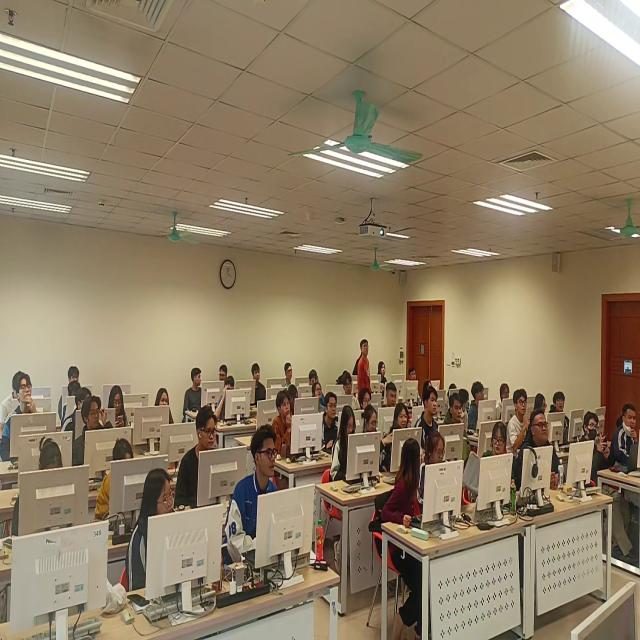raise_head: (226, 423, 281, 570), (126, 465, 179, 603), (3, 371, 40, 465), (520, 409, 565, 485), (611, 402, 639, 470), (386, 402, 410, 472), (415, 385, 440, 446), (274, 390, 296, 459), (509, 386, 529, 453), (320, 391, 340, 454), (552, 390, 571, 442), (154, 387, 177, 426), (251, 362, 267, 405), (445, 392, 464, 428), (408, 364, 424, 405), (312, 378, 324, 412), (359, 385, 373, 413), (387, 381, 399, 410), (342, 371, 354, 397), (284, 361, 295, 388), (378, 359, 388, 385), (68, 365, 81, 385), (424, 379, 433, 391)
stand: (357, 338, 373, 390)
using_computer: (176, 407, 219, 514), (95, 437, 135, 521), (421, 431, 448, 515), (332, 404, 357, 487), (362, 403, 392, 472), (38, 435, 65, 478), (217, 375, 237, 421), (534, 391, 547, 416), (288, 384, 300, 410), (66, 381, 81, 398), (309, 368, 319, 388), (448, 380, 459, 397)
using_phone: (579, 409, 637, 569), (108, 384, 131, 429)
